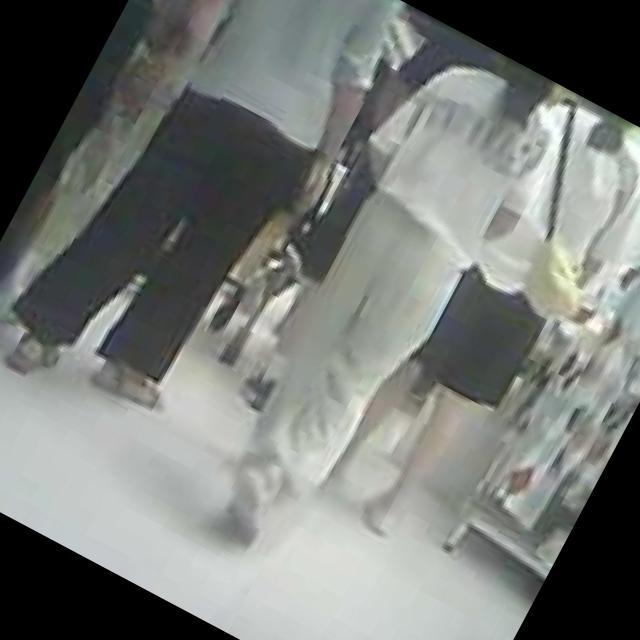person: (164, 16, 604, 606), (9, 0, 417, 457), (329, 81, 640, 569), (0, 0, 237, 333)
